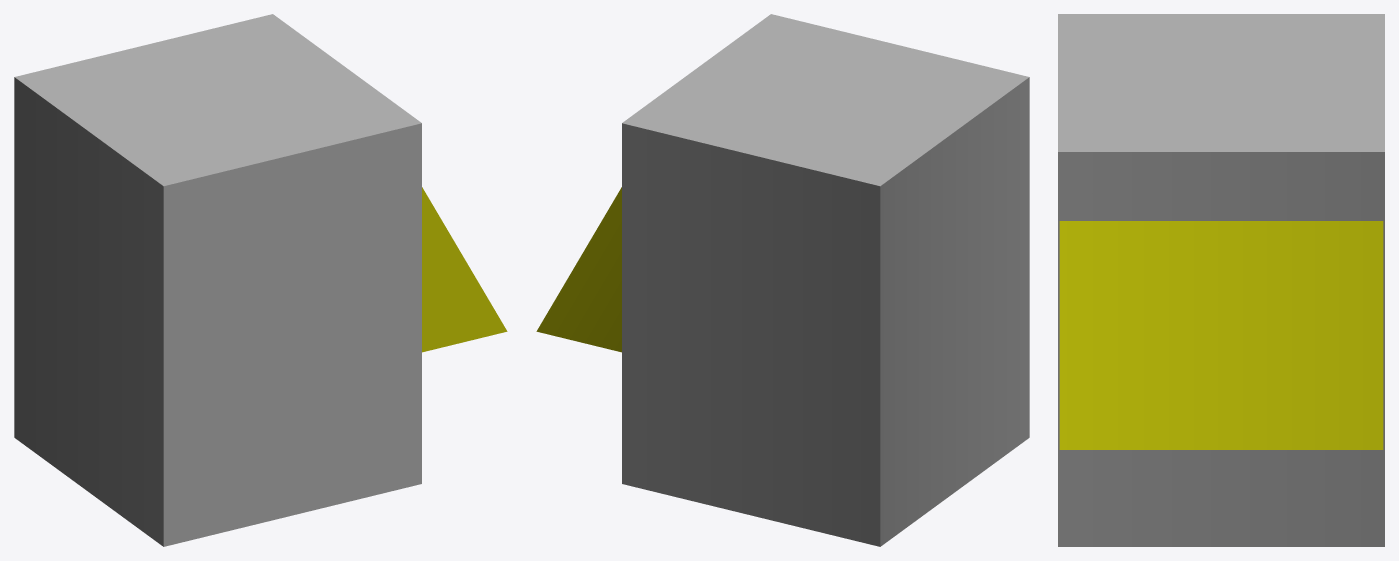
Rendered from strip-2-low.glb.
3 renders of one model, left to right at view 1: azimuth 30°, elevation 25°; view 2: azimuth 150°, elevation 25°; view 3: azimuth 270°, elevation 25°, orthographic. The views are drawn at different scales.
Visible parts, largest first — view 1: mesh0; view 2: mesh0; view 3: mesh0.
Part boxes in pixels (x1,y1,x2,y2): mesh0: [14, 14, 507, 546]; mesh0: [536, 14, 1029, 546]; mesh0: [1058, 14, 1384, 546].
Bounding box in the file's own units: 0.8 × 0.8 × 0.6.
